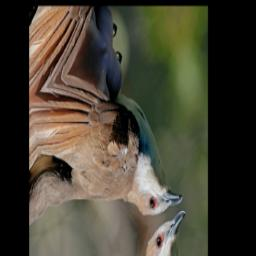Cuckoo: (29, 21, 184, 256)
